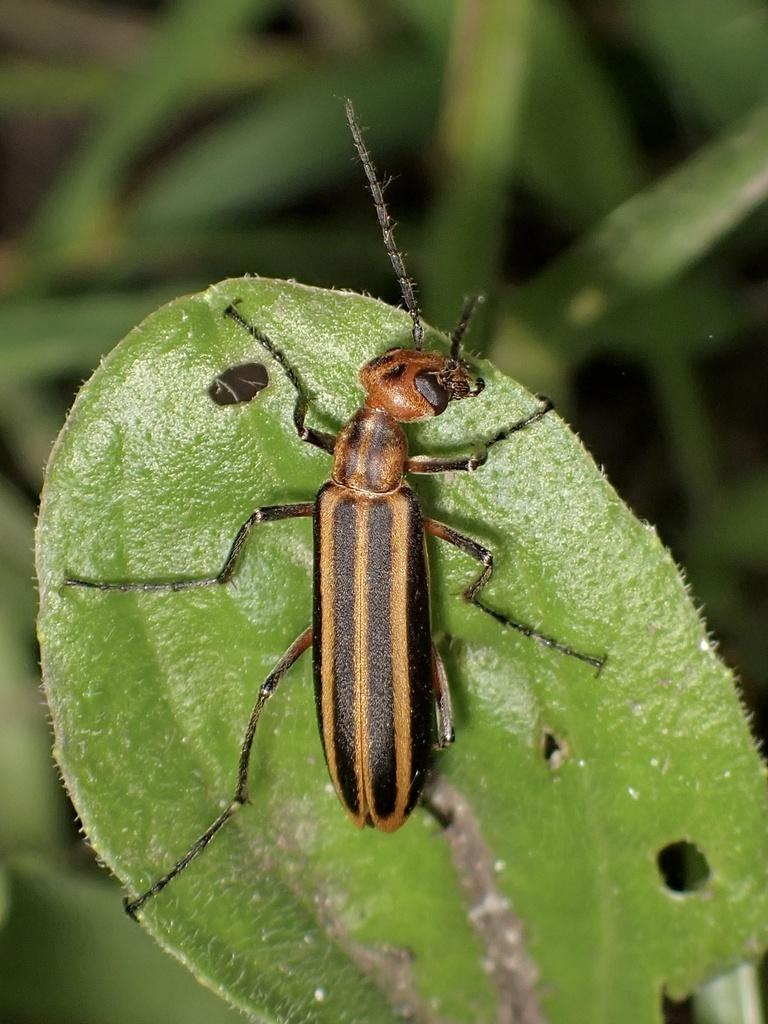blister_beetle: (11, 54, 757, 1014)
